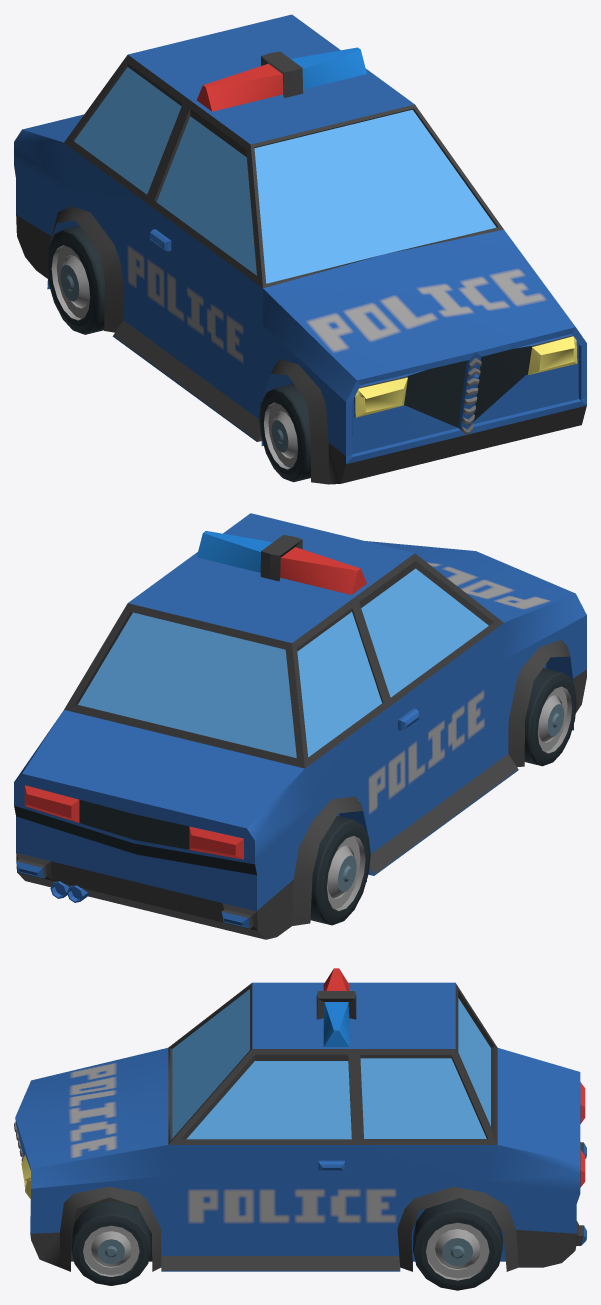
File: PoliceCar.fbx
The picture shows the model from 3 angles, top to bottom: view 1: azimuth 30°, elevation 25°; view 2: azimuth 150°, elevation 25°; view 3: azimuth 270°, elevation 25°; orthographic projection. The views are drawn at different scales.
Visible parts, largest first — view 1: Police-Car, PoliceCarWheelBackR, PoliceCarWheelFrontR; view 2: Police-Car, PoliceCarWheelBackR, PoliceCarWheelFrontR; view 3: Police-Car, PoliceCarWheelBackL, PoliceCarWheelFrontL.
Part boxes in pixels (x1,y1,x2,y2): Police-Car: (14,14,586,484); PoliceCarWheelBackR: (46,225,104,334); PoliceCarWheelFrontR: (259,383,310,482); Police-Car: (14,513,586,939); PoliceCarWheelBackR: (310,816,370,925); PoliceCarWheelFrontR: (524,668,576,766); Police-Car: (14,968,586,1271); PoliceCarWheelBackL: (413,1198,502,1290); PoliceCarWheelFrontL: (71,1201,151,1285).
Size of the model in its own units: 4.82 by 4.67 by 10.12.
